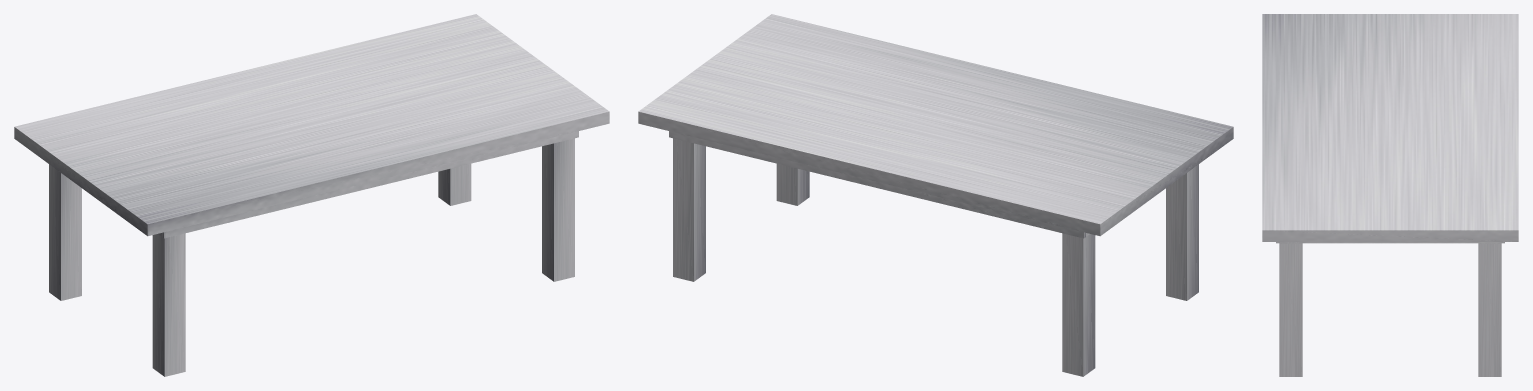
File: table1.glb
3 renders of one model, left to right at view 1: azimuth 30°, elevation 25°; view 2: azimuth 150°, elevation 25°; view 3: azimuth 270°, elevation 25°, orthographic. The views are drawn at different scales.
Parts seen in each view (by area): view 1: Cube, Cube.004, Cube.003, Cube.001, Cube.006, Cube.002; view 2: Cube, Cube.001, Cube.002, Cube.004, Cube.007, Cube.003; view 3: Cube, Cube.002, Cube.003, Cube.005.
Part boxes in pixels (x1,y1,x2,y2): Cube: [14, 14, 609, 236]; Cube.004: [152, 233, 185, 376]; Cube.003: [542, 138, 574, 281]; Cube.001: [49, 164, 81, 300]; Cube.006: [162, 131, 578, 238]; Cube.002: [438, 163, 471, 205]; Cube: [638, 14, 1233, 236]; Cube.001: [1062, 233, 1095, 376]; Cube.002: [673, 138, 705, 281]; Cube.004: [1166, 164, 1198, 300]; Cube.007: [669, 131, 1085, 238]; Cube.003: [776, 163, 809, 205]; Cube: [1262, 14, 1518, 241]; Cube.002: [1478, 243, 1501, 376]; Cube.003: [1279, 243, 1302, 376]; Cube.005: [1280, 242, 1500, 243].
Size of the model in its own units: 8.8 by 3.01 by 4.4.
1 material, 1 textured.
